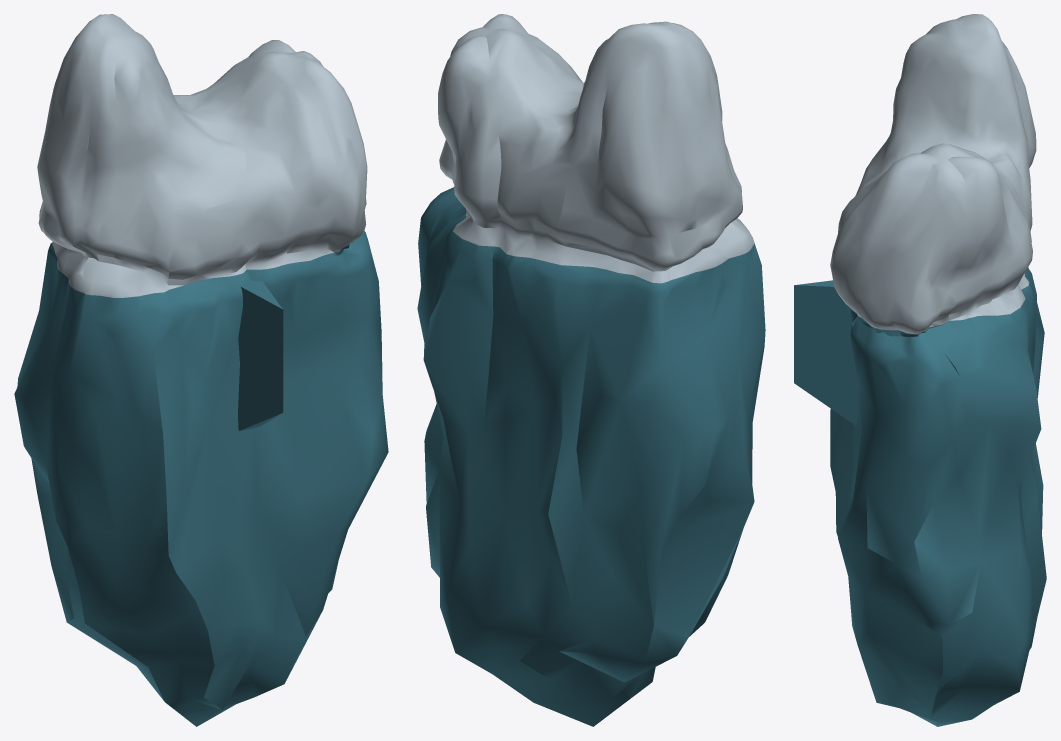
File: iceberg_drydock.glb
The picture shows the model from 3 angles, left to right: view 1: azimuth 30°, elevation 25°; view 2: azimuth 150°, elevation 25°; view 3: azimuth 270°, elevation 25°; orthographic projection. The views are drawn at different scales.
Visible parts, largest first — view 1: iceberg_drydock; view 2: iceberg_drydock; view 3: iceberg_drydock.
Part boxes in pixels (x1,y1,x2,y2): iceberg_drydock: (14,14,388,726); iceberg_drydock: (417,14,765,726); iceberg_drydock: (794,14,1046,726).
Size of the model in its own units: 14.8 by 31 by 10.5.
